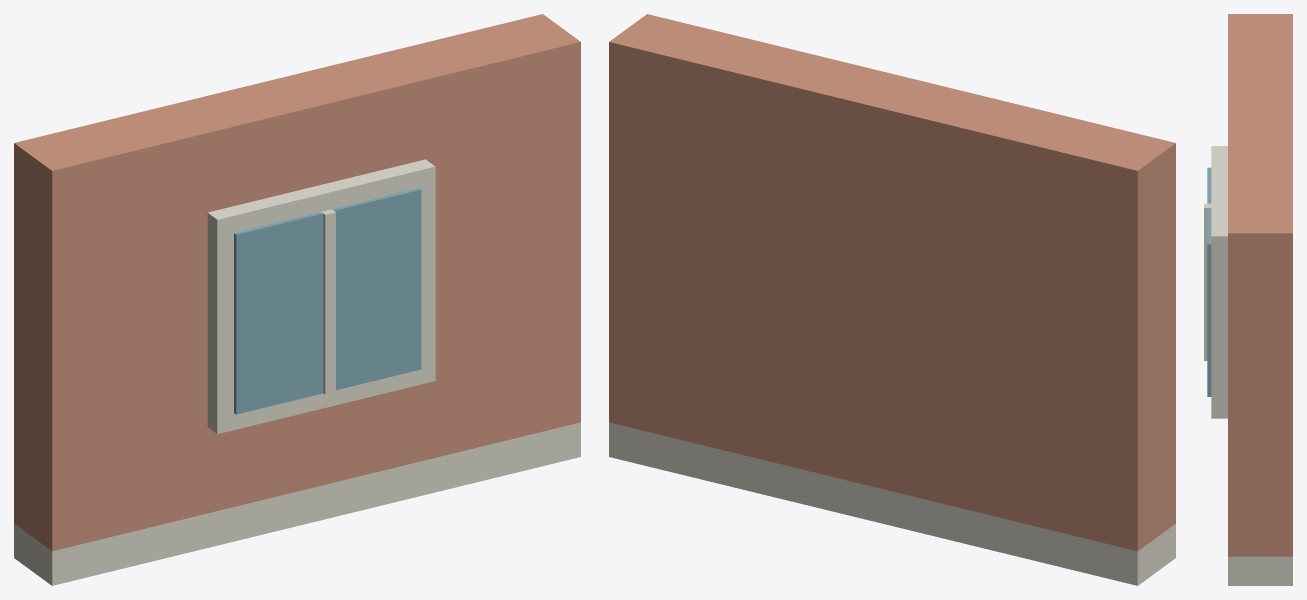
Rendered from voxel-city-districts-single-window-bay-b6ba7bb1__24797.glb.
3 renders of one model, left to right at view 1: azimuth 30°, elevation 25°; view 2: azimuth 150°, elevation 25°; view 3: azimuth 270°, elevation 25°, orthographic. The views are drawn at different scales.
Parts seen in each view (by area): view 1: single-window-bay-brick, single-window-bay-concrete, single-window-bay-glass; view 2: single-window-bay-brick, single-window-bay-concrete; view 3: single-window-bay-brick, single-window-bay-concrete, single-window-bay-glass.
Part boxes in pixels (box(x1,y1,x2,y2)): single-window-bay-brick: box(14, 14, 580, 551); single-window-bay-concrete: box(14, 159, 580, 585); single-window-bay-glass: box(234, 188, 421, 414); single-window-bay-brick: box(609, 14, 1175, 551); single-window-bay-concrete: box(609, 422, 1175, 585); single-window-bay-brick: box(1228, 14, 1292, 556); single-window-bay-concrete: box(1204, 146, 1292, 585); single-window-bay-glass: box(1207, 167, 1211, 396).
Size of the model in its own units: 4 by 3 by 0.6851.
